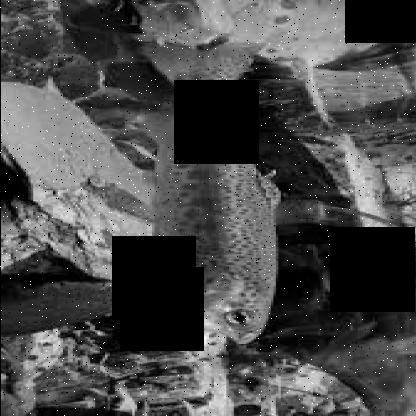fish: (140, 37, 284, 352)
